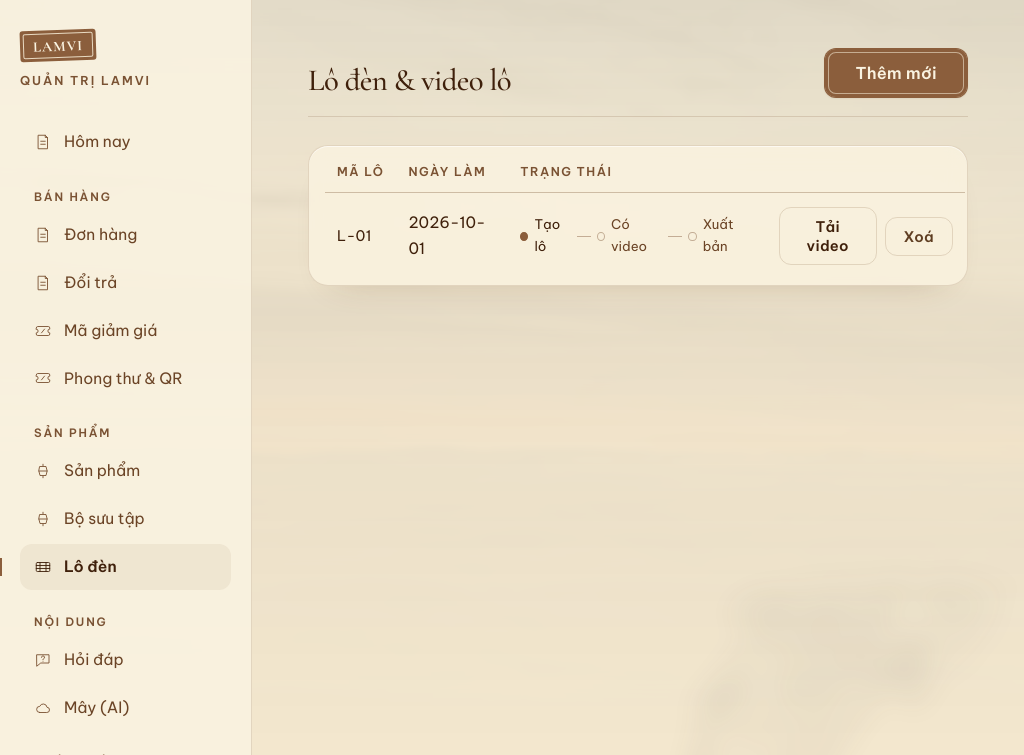
Test: Xoá có hỏi xác nhận › xoá lô bị server từ chối (BATCH_PUBLISHED) → hiện thông báo
What coordinates should you click on to do the following:
click the button "Xoá"
I would click on:
 (919, 236)
Its box is [885, 217, 953, 256].
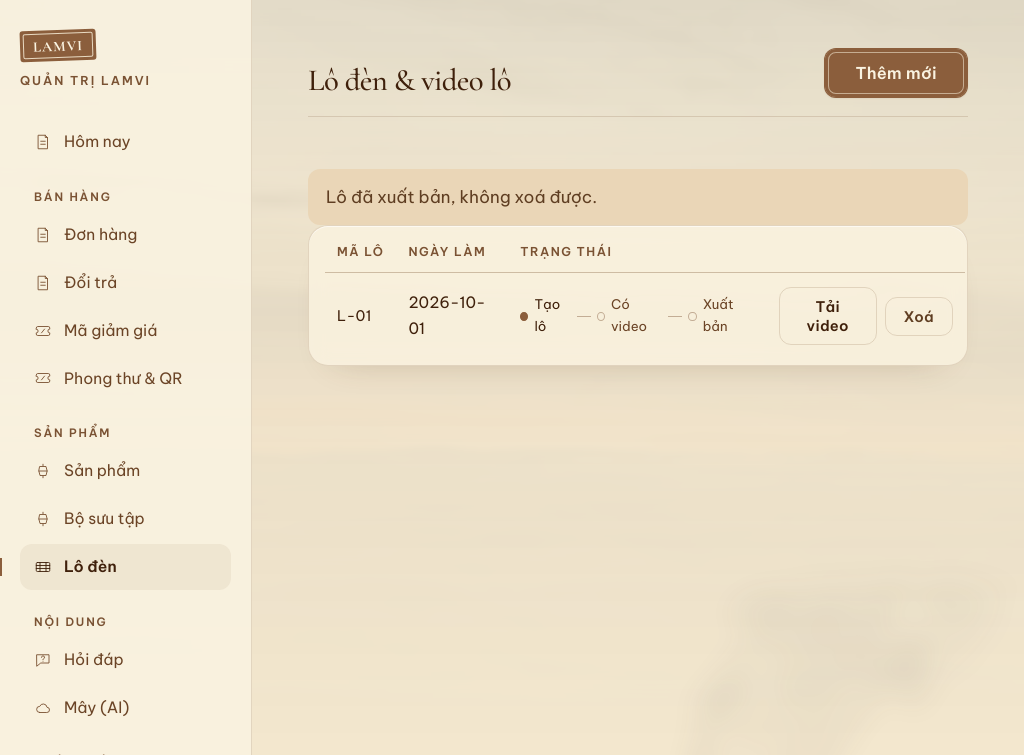
Now the message reads "Lô đã xuất bản, không xoá được.", box [326, 186, 597, 208]
